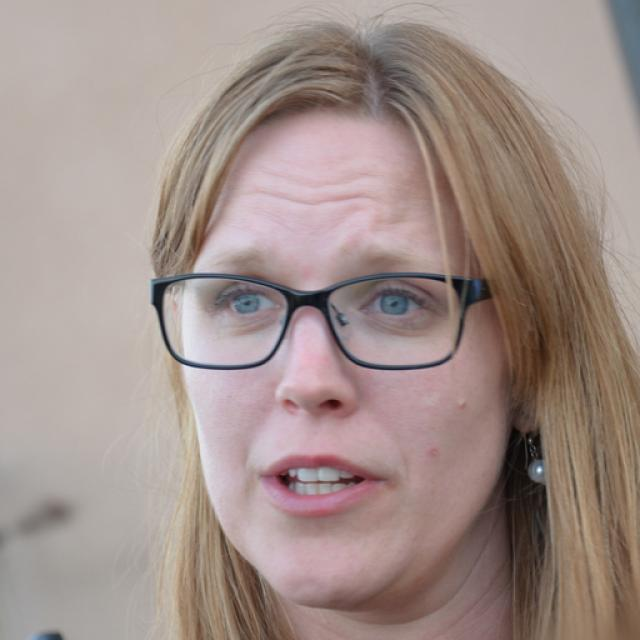Acne: (452, 396, 477, 417)
